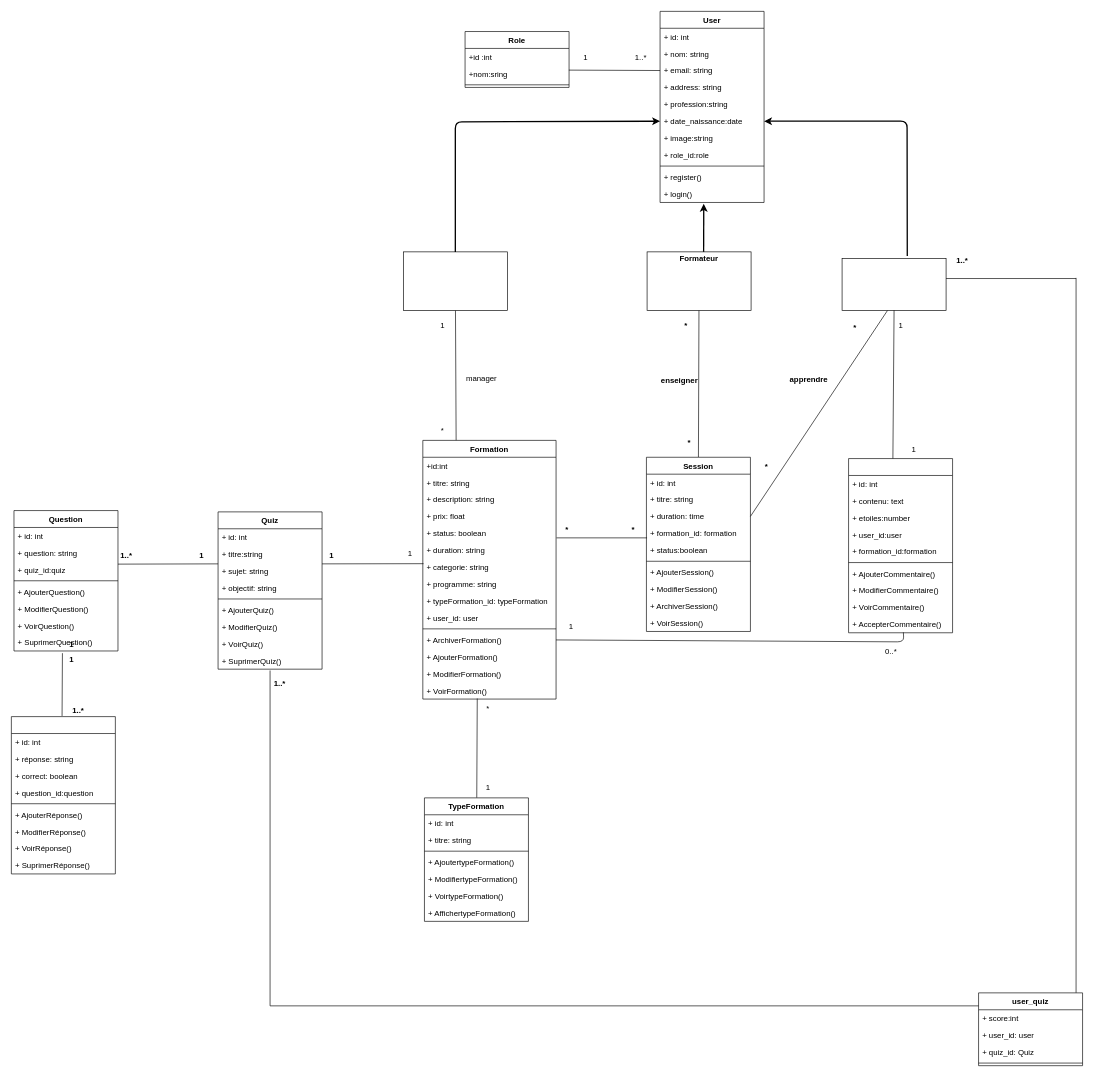
Some shapes in this 1094 by 1077 pixel diagram are drawn without their labels. The box of each missing label's shape, as (x1, y1, x2, y2) in pixels:
Admin: (403, 251, 507, 310)
Apprenant: (841, 258, 946, 310)
Commantaire: (848, 458, 953, 633)
Reponse: (11, 716, 115, 874)
